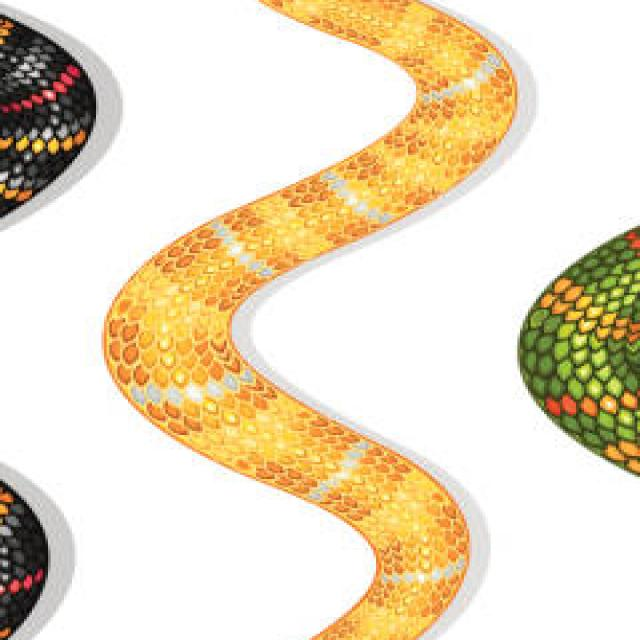Snake: (99, 0, 520, 640)
